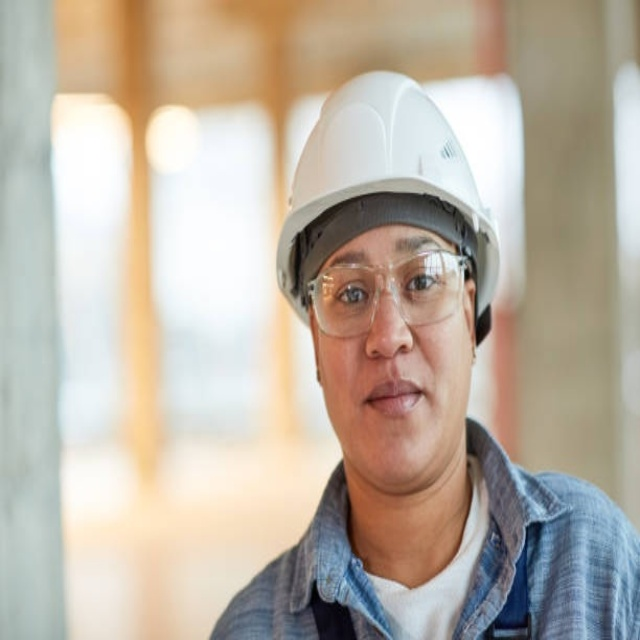Gafas: (305, 252, 469, 337)
Sin_mascara: (353, 364, 439, 461)
